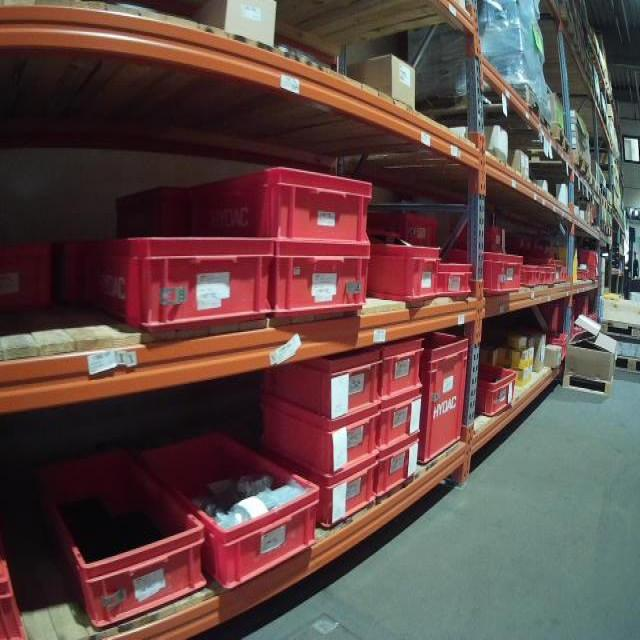pallet: (409, 83, 545, 152), (497, 121, 574, 166), (559, 167, 595, 205), (549, 154, 594, 182), (603, 319, 638, 342), (617, 351, 640, 380), (592, 220, 610, 241)
small_load_carrier: (140, 415, 321, 596), (53, 475, 209, 633), (56, 232, 278, 334), (184, 159, 374, 243), (270, 236, 374, 328), (258, 401, 382, 477), (264, 338, 380, 418), (422, 321, 474, 468), (448, 217, 524, 301), (0, 230, 66, 326), (362, 241, 447, 310), (313, 459, 376, 531), (107, 189, 199, 235), (383, 333, 433, 411), (378, 429, 427, 499), (469, 359, 520, 425), (374, 392, 425, 453), (373, 207, 450, 246), (2, 540, 31, 639), (433, 258, 469, 308), (535, 339, 576, 373), (514, 268, 541, 293), (531, 265, 558, 286)
